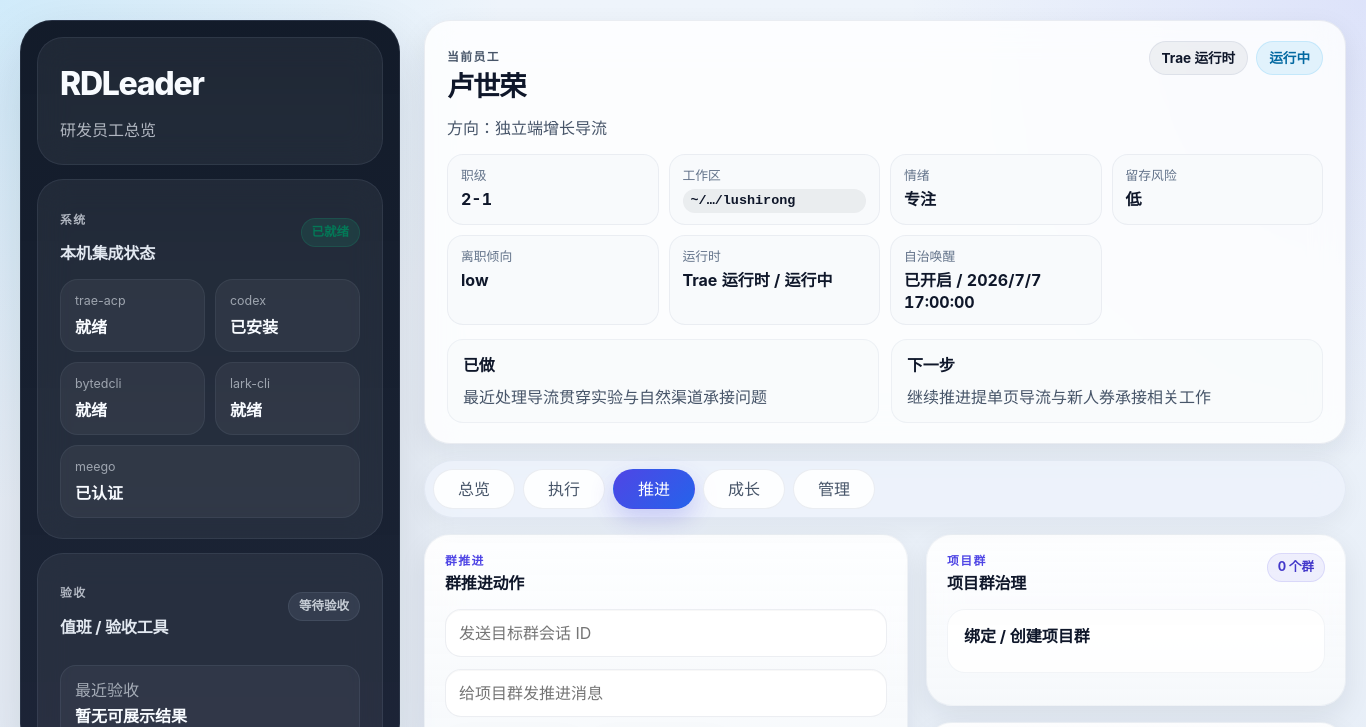
App › lets the leader approve a pending approval request
The image size is (1366, 727).
Click the tab "推进" at (654, 489), box [613, 469, 695, 509]
(page scrolled)
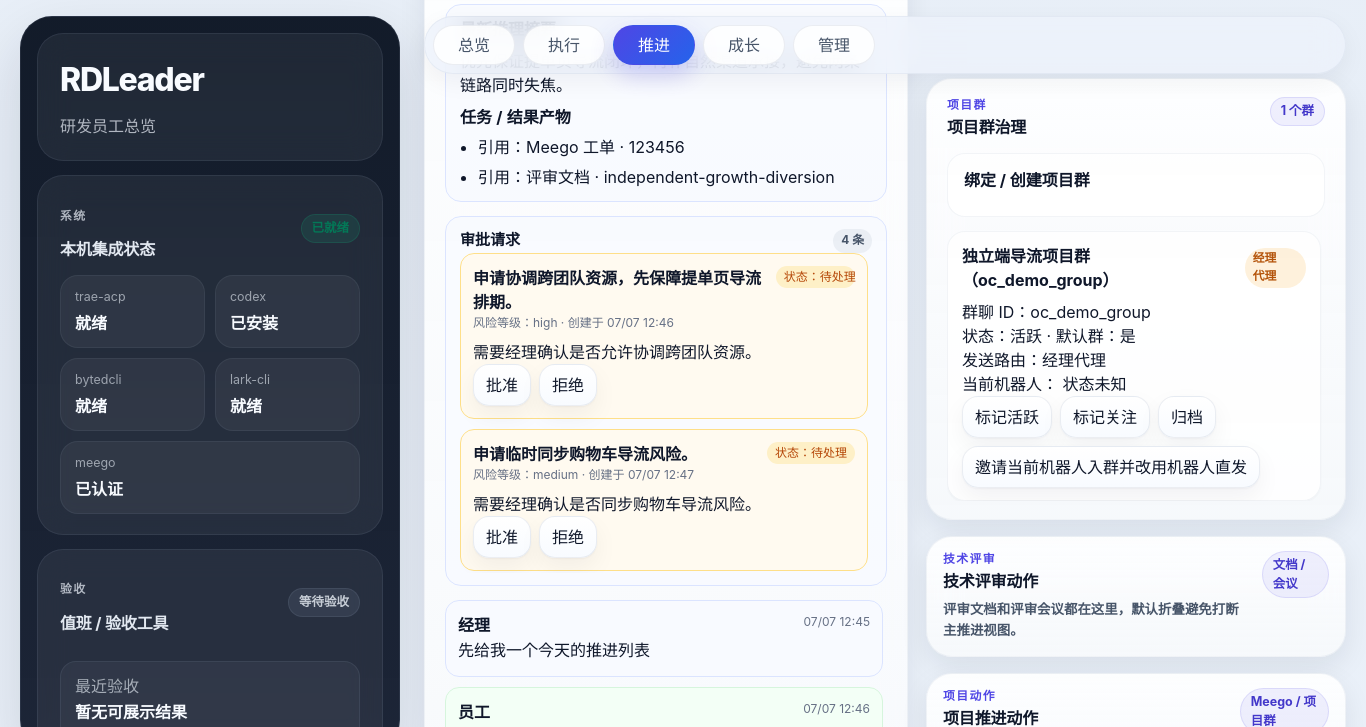
expect the heading "项目群治理" is shown: met, box [947, 115, 1026, 139]
expect the text "申请协调跨团队资源，先保障提单页导流排期。" is shown: met, box [473, 268, 761, 312]
expect the text "状态：待处理" next to "申请协调跨团队资源，先保障提单页导流排期。" is shown: met, box [776, 266, 855, 288]
Click the button with aria-label "批准请求 approval-request-1" at (502, 385), box [473, 364, 531, 406]
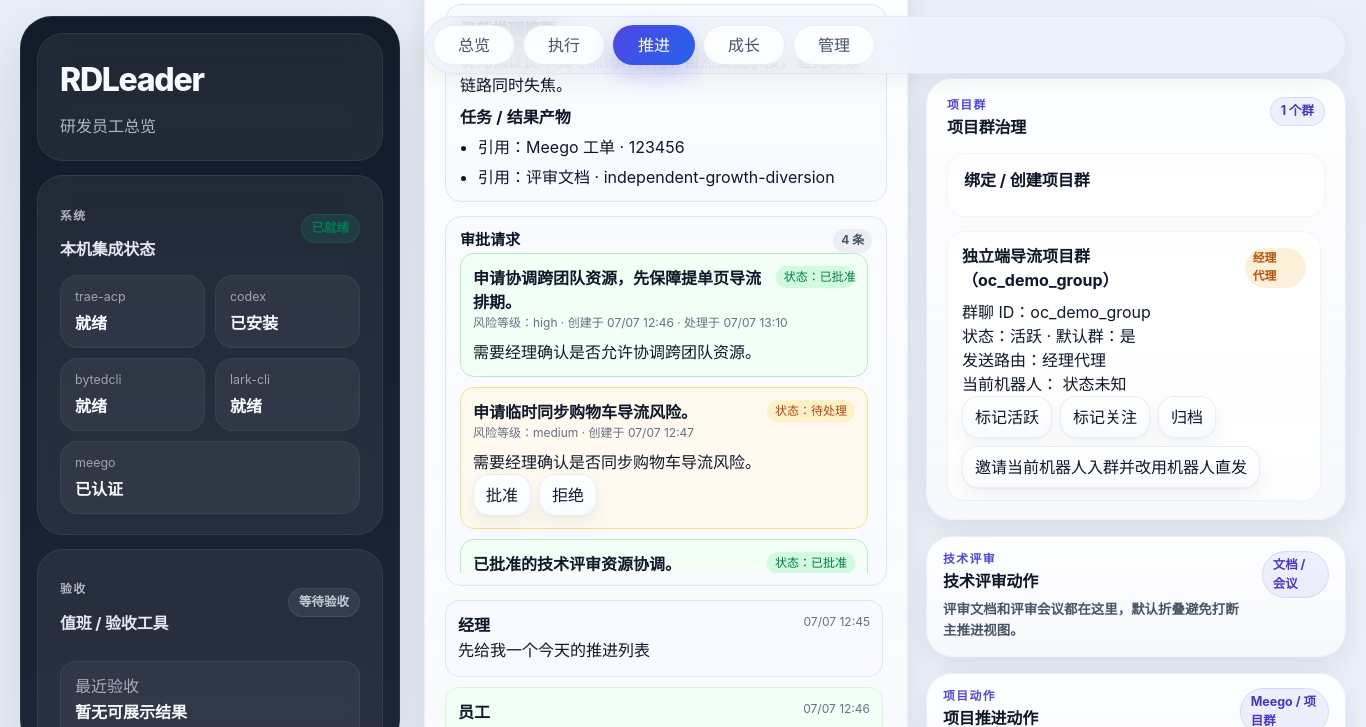
expect the text "状态：已批准" next to "申请协调跨团队资源，先保障提单页导流排期。" is shown: met, box [776, 266, 855, 288]
